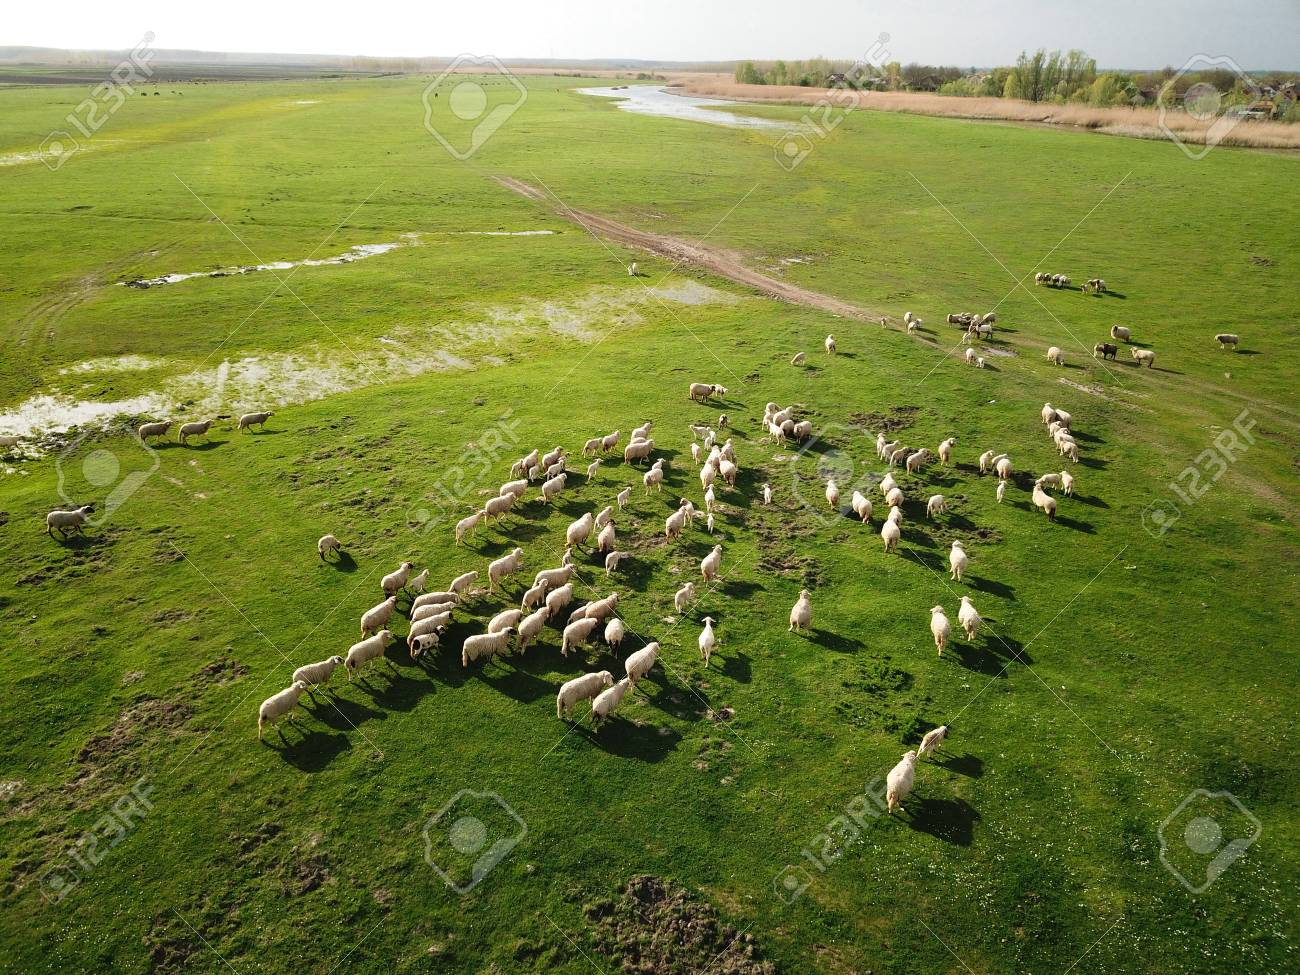sheep: (257, 676, 309, 746), (555, 668, 612, 719), (344, 627, 396, 676), (461, 626, 518, 670), (591, 674, 635, 729), (293, 654, 345, 701), (882, 749, 918, 811), (358, 592, 402, 639), (624, 640, 663, 688), (516, 605, 553, 654), (486, 546, 525, 592), (44, 506, 95, 539), (407, 608, 456, 643), (560, 617, 598, 658), (408, 588, 460, 618), (380, 560, 419, 597), (586, 592, 622, 630), (483, 487, 519, 526), (928, 603, 953, 659), (956, 592, 984, 641), (697, 617, 723, 668), (788, 587, 815, 634), (454, 509, 488, 545), (239, 408, 278, 436), (564, 511, 596, 547), (139, 418, 175, 450), (919, 723, 948, 762), (447, 568, 479, 600), (1031, 481, 1058, 517), (178, 419, 215, 446), (500, 475, 531, 506), (604, 614, 626, 658), (702, 541, 724, 584), (945, 540, 967, 581), (541, 471, 569, 503), (665, 507, 689, 544), (624, 438, 657, 463), (850, 490, 872, 524), (880, 518, 900, 556), (926, 491, 951, 520), (686, 381, 716, 406), (937, 438, 960, 468), (595, 519, 616, 550), (642, 467, 664, 496), (673, 582, 694, 611), (318, 533, 339, 563), (823, 480, 842, 512), (765, 416, 785, 446), (600, 549, 624, 574), (600, 429, 623, 454), (1131, 346, 1161, 366), (629, 420, 655, 441), (541, 443, 564, 468), (595, 503, 615, 529), (1215, 332, 1242, 352), (772, 407, 795, 429), (521, 446, 539, 474), (1045, 346, 1069, 368), (581, 437, 605, 458), (995, 454, 1012, 481), (1040, 399, 1057, 427), (793, 419, 812, 444), (1060, 439, 1080, 463), (1055, 406, 1072, 433), (1112, 325, 1134, 344), (979, 449, 995, 473), (994, 478, 1009, 504), (704, 482, 718, 509), (906, 316, 923, 336), (616, 487, 633, 507), (826, 333, 838, 355), (945, 312, 963, 327)
